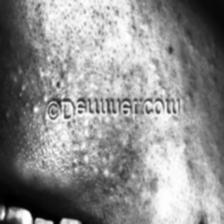Non-Cancerous Skin Condition: (70, 122, 120, 173), (199, 219, 204, 224)
